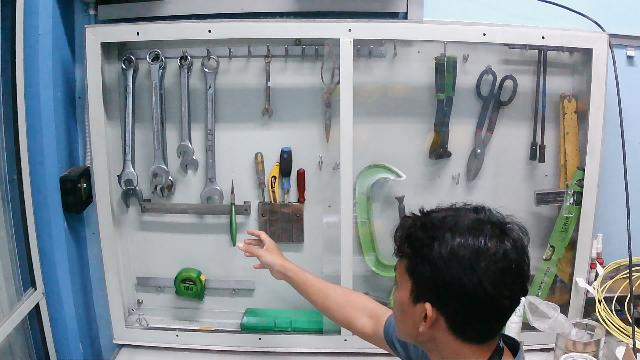tang_cucut_lancip_2: (225, 177, 245, 256)
